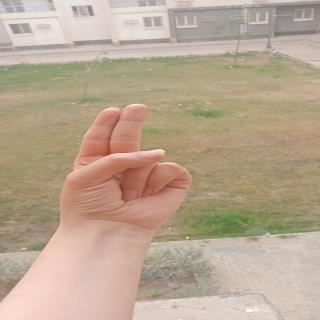TA: (45, 100, 234, 232)
